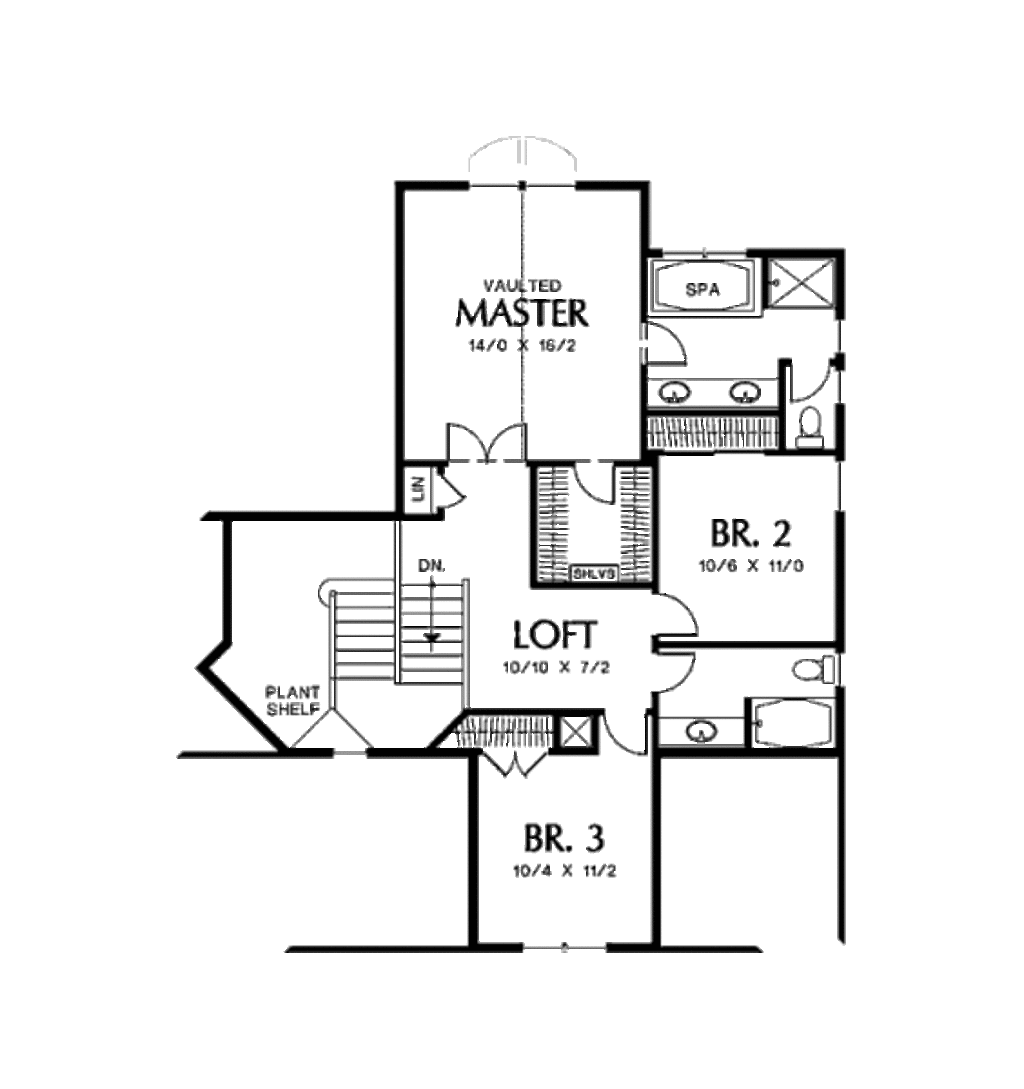door: (454, 134, 598, 195), (439, 412, 530, 460), (632, 317, 705, 372), (649, 641, 712, 697), (602, 704, 656, 765), (571, 450, 620, 514), (786, 351, 842, 406), (654, 585, 707, 643), (483, 748, 551, 782)
large_sink: (785, 648, 839, 697), (793, 406, 829, 458)
small_sink: (639, 373, 785, 407), (656, 711, 734, 745)
stairs: (314, 568, 475, 758)
tub: (737, 700, 846, 746)
